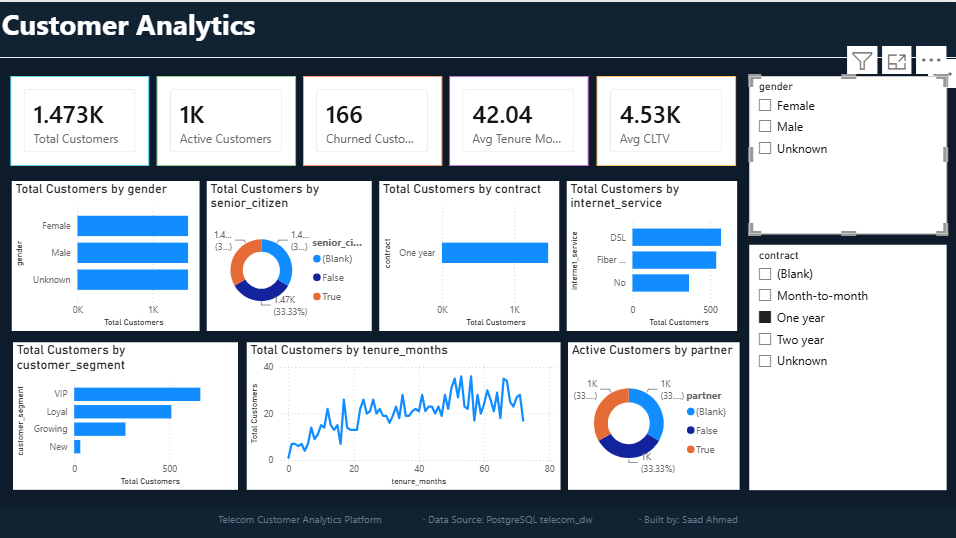

Layout of this report page (visuals, bound fields, positions):
{"tool":"powerbi","page":{"name":"Customer Analytics","canvas":[1280,720],"ordinal":1},"visuals":[{"type":"textbox","box":[0,0,1280,77.1],"z":0},{"type":"cardVisual","fields":{"Data":["gold fact_customer_snapshot.Total Customers"]},"box":[16.1,99.4,185,120],"z":1000},{"type":"cardVisual","fields":{"Data":["gold fact_customer_snapshot.Active Customers"]},"box":[211.1,99.4,185.7,120],"z":2000},{"type":"cardVisual","fields":{"Data":["gold fact_customer_snapshot.Churned Customers"]},"box":[406.9,99.4,185.7,120],"z":3000},{"type":"cardVisual","fields":{"Data":["gold fact_customer_snapshot.Avg Tenure Months"]},"box":[601.1,99.4,185.7,120],"z":4000},{"type":"cardVisual","fields":{"Data":["gold fact_customer_snapshot.Avg CLTV"]},"box":[798.3,99.4,185.7,120],"z":5000},{"type":"clusteredBarChart","fields":{"Category":["gold dim_customer.gender"],"Y":["gold fact_customer_snapshot.Total Customers"]},"box":[19.1,239.4,250,200],"z":6000},{"type":"donutChart","fields":{"Category":["gold dim_customer.senior_citizen"],"Y":["gold fact_customer_snapshot.Total Customers"]},"box":[278.4,239.4,220,200],"z":7000},{"type":"clusteredBarChart","fields":{"Category":["gold dim_plan.contract"],"Y":["gold fact_customer_snapshot.Total Customers"]},"box":[509.1,239.4,240,200],"z":8000},{"type":"clusteredBarChart","fields":{"Category":["gold dim_plan.internet_service"],"Y":["gold fact_customer_snapshot.Total Customers"]},"box":[759.1,239.4,227.1,200],"z":9000},{"type":"clusteredBarChart","fields":{"Category":["gold fact_customer_snapshot.customer_segment"],"Y":["gold fact_customer_snapshot.Total Customers"]},"box":[20,455.7,300,197.1],"z":10000},{"type":"lineChart","fields":{"Category":["gold fact_customer_snapshot.tenure_months"],"Y":["gold fact_customer_snapshot.Total Customers"]},"box":[331.4,455.7,418.6,197.1],"z":11000},{"type":"donutChart","fields":{"Category":["gold dim_customer.partner"],"Y":["gold fact_customer_snapshot.Active Customers"]},"box":[760,455.7,228.6,197.1],"z":12000},{"type":"textbox","box":[0,677.1,1280,42.9],"z":13000},{"type":"slicer","fields":{"Values":["gold dim_customer.gender"]},"box":[1001.4,100,262.9,211.4],"z":14000},{"type":"slicer","fields":{"Values":["gold dim_plan.contract"]},"box":[1001.4,325.7,262.9,327.1],"z":15000}]}

Visuals, with their boxes on the page's 1280x720 design canvas (x1, y1, x2, y2). These are canvas units, not pixel positions in the 956x538 screenshot, which may show the page scaled, cropped or inside an application window:
textbox: Rect(0, 0, 1280, 77)
cardVisual - gold fact_customer_snapshot.Total Customers: Rect(16, 99, 201, 219)
cardVisual - gold fact_customer_snapshot.Active Customers: Rect(211, 99, 397, 219)
cardVisual - gold fact_customer_snapshot.Churned Customers: Rect(407, 99, 593, 219)
cardVisual - gold fact_customer_snapshot.Avg Tenure Months: Rect(601, 99, 787, 219)
cardVisual - gold fact_customer_snapshot.Avg CLTV: Rect(798, 99, 984, 219)
clusteredBarChart - gold dim_customer.gender x gold fact_customer_snapshot.Total Customers: Rect(19, 239, 269, 439)
donutChart - gold dim_customer.senior_citizen x gold fact_customer_snapshot.Total Customers: Rect(278, 239, 498, 439)
clusteredBarChart - gold dim_plan.contract x gold fact_customer_snapshot.Total Customers: Rect(509, 239, 749, 439)
clusteredBarChart - gold dim_plan.internet_service x gold fact_customer_snapshot.Total Customers: Rect(759, 239, 986, 439)
clusteredBarChart - gold fact_customer_snapshot.customer_segment x gold fact_customer_snapshot.Total Customers: Rect(20, 456, 320, 653)
lineChart - gold fact_customer_snapshot.tenure_months x gold fact_customer_snapshot.Total Customers: Rect(331, 456, 750, 653)
donutChart - gold dim_customer.partner x gold fact_customer_snapshot.Active Customers: Rect(760, 456, 989, 653)
textbox: Rect(0, 677, 1280, 720)
slicer - gold dim_customer.gender: Rect(1001, 100, 1264, 311)
slicer - gold dim_plan.contract: Rect(1001, 326, 1264, 653)
